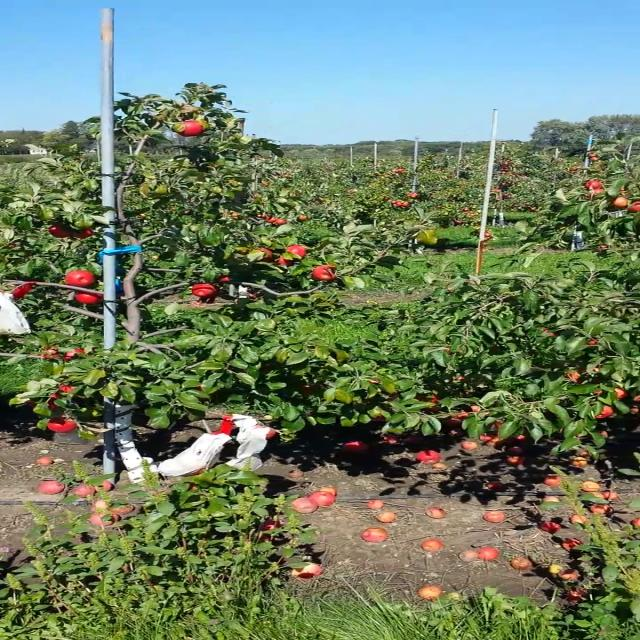apple: (24, 392, 63, 412), (64, 270, 94, 286), (176, 120, 204, 137), (46, 418, 78, 432), (590, 403, 616, 419), (9, 283, 31, 300), (312, 264, 335, 280), (74, 292, 104, 304), (562, 368, 586, 383), (40, 344, 62, 360), (47, 224, 71, 238), (192, 283, 215, 296), (62, 348, 86, 360), (414, 392, 438, 404), (70, 226, 90, 238), (286, 244, 306, 256), (256, 247, 272, 262), (612, 386, 628, 401), (583, 180, 603, 190), (608, 198, 628, 208), (264, 426, 277, 440), (276, 256, 294, 266), (538, 326, 556, 336), (59, 383, 77, 392), (299, 383, 313, 394), (628, 200, 639, 212), (370, 414, 388, 421), (217, 274, 232, 282), (585, 337, 599, 345), (392, 200, 409, 206), (484, 231, 494, 241), (396, 167, 406, 173), (407, 191, 417, 197), (369, 378, 379, 384), (588, 189, 602, 193), (458, 374, 467, 380), (196, 383, 204, 389), (491, 188, 501, 192), (454, 219, 462, 224), (248, 294, 258, 298), (444, 349, 450, 354), (494, 197, 501, 201), (462, 208, 468, 212), (468, 212, 473, 216)
